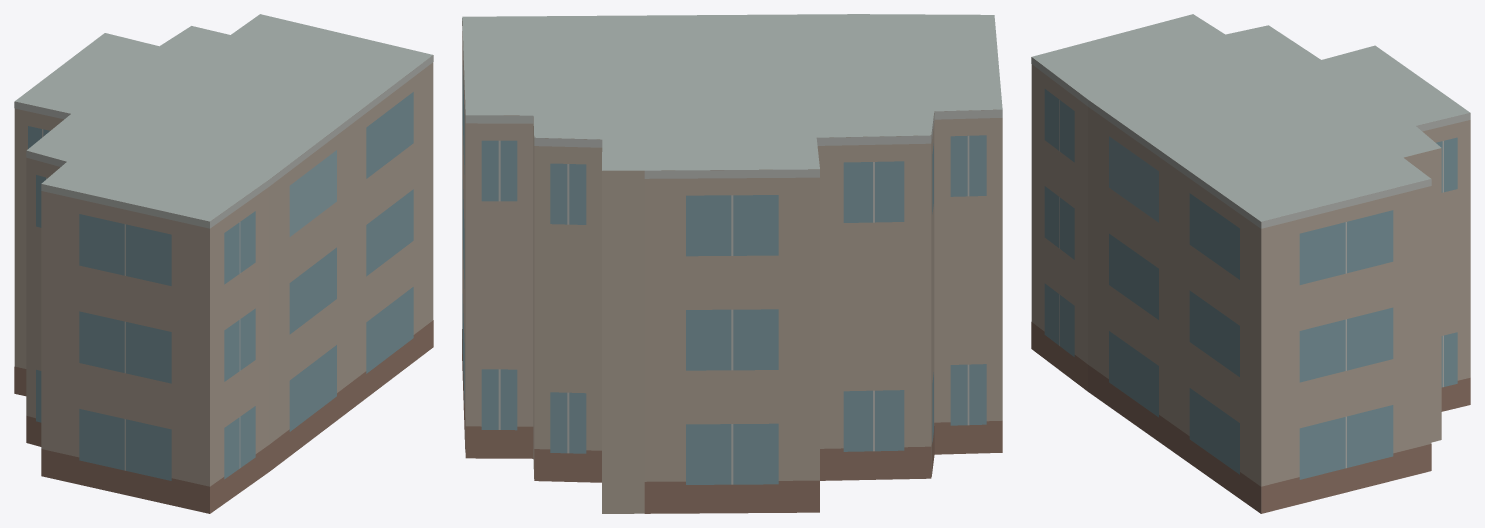
File: survey-upis-32616200.glb
3 views of the same model, side by side, from view 1: azimuth 30°, elevation 25°; view 2: azimuth 150°, elevation 25°; view 3: azimuth 270°, elevation 25° (orthographic). The views are drawn at different scales.
Parts seen in each view (by area): view 1: survey-upis-32616200.tmp; view 2: survey-upis-32616200.tmp; view 3: survey-upis-32616200.tmp.
Part boxes in pixels (bbox=[...]): survey-upis-32616200.tmp: bbox=[14, 14, 433, 513]; survey-upis-32616200.tmp: bbox=[462, 14, 1002, 513]; survey-upis-32616200.tmp: bbox=[1031, 14, 1470, 513].
Bounding box in the file's own units: 15.42 × 10.1 × 13.77.
